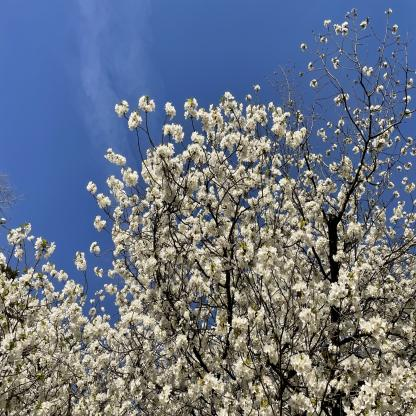OshimaSakura: (0, 6, 416, 416)
